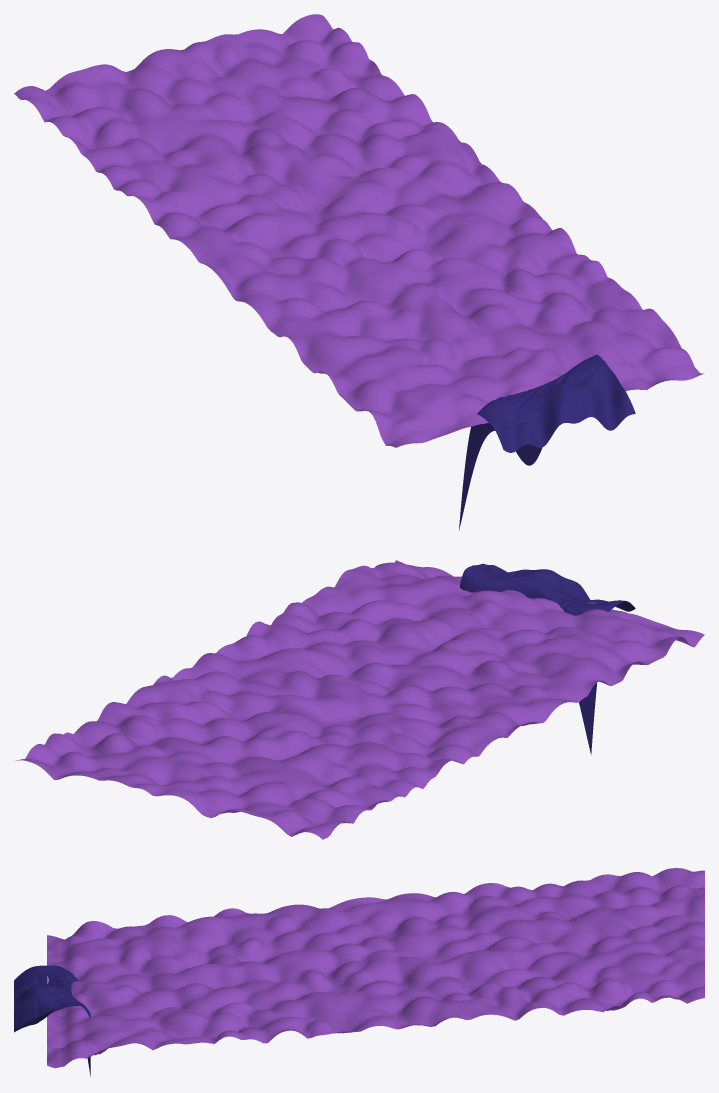
3 renders of one model, top to bottom at view 1: azimuth 30°, elevation 25°; view 2: azimuth 150°, elevation 25°; view 3: azimuth 270°, elevation 25°, orthographic. The views are drawn at different scales.
Visible parts, largest first — view 1: back, front; view 2: back, front; view 3: back, front.
Boxes of the visible parts, bbox=[...] form: back: bbox=[14, 14, 704, 447]; front: bbox=[459, 354, 635, 530]; back: bbox=[16, 560, 704, 839]; front: bbox=[459, 563, 635, 754]; back: bbox=[47, 868, 704, 1068]; front: bbox=[14, 965, 90, 1076].
Bounding box in the file's own units: 14 × 8.95 × 31.5.
